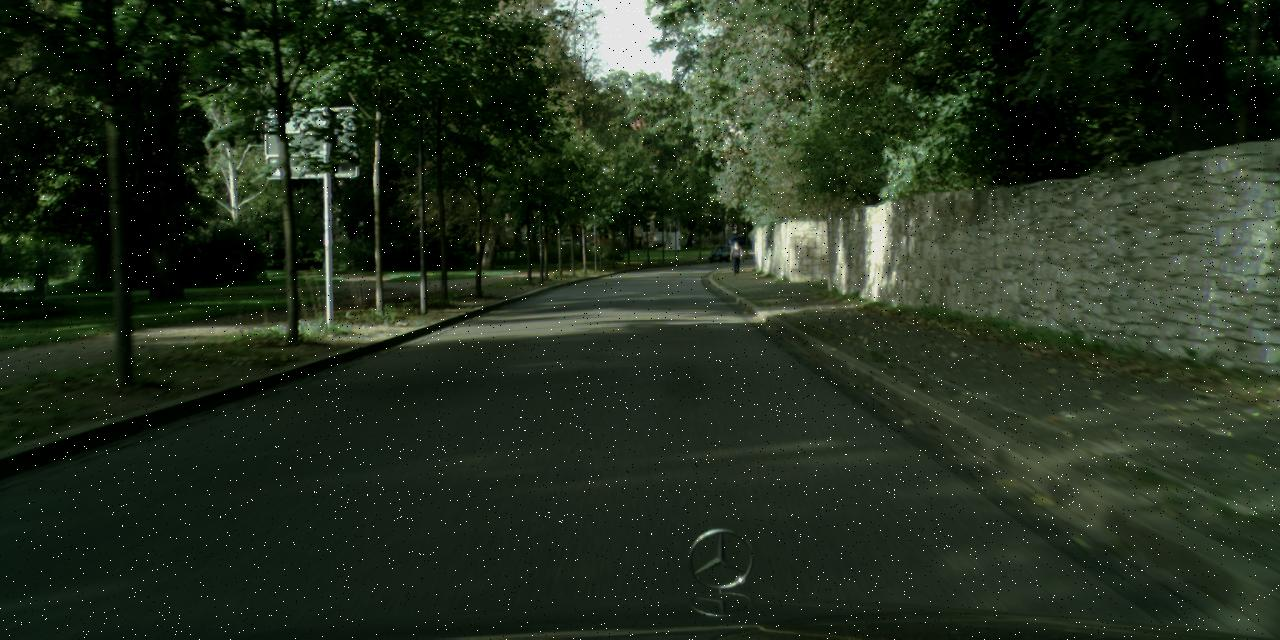ped: (729, 242, 742, 274)
